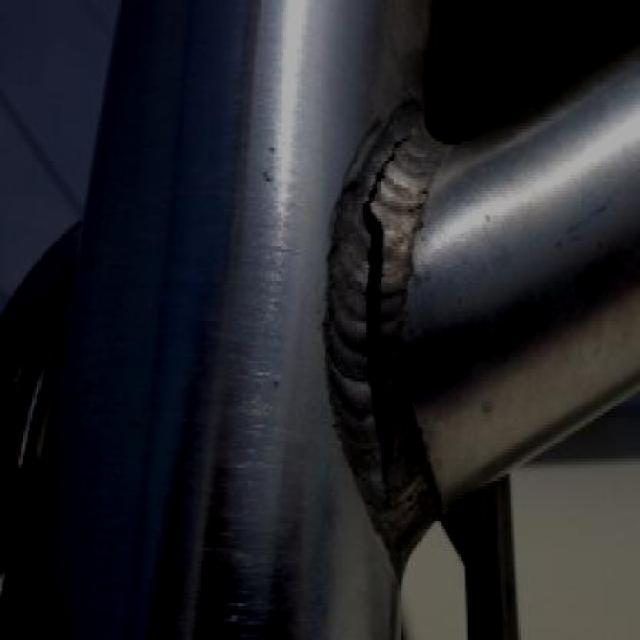crack: (363, 135, 409, 214), (369, 222, 389, 335)
